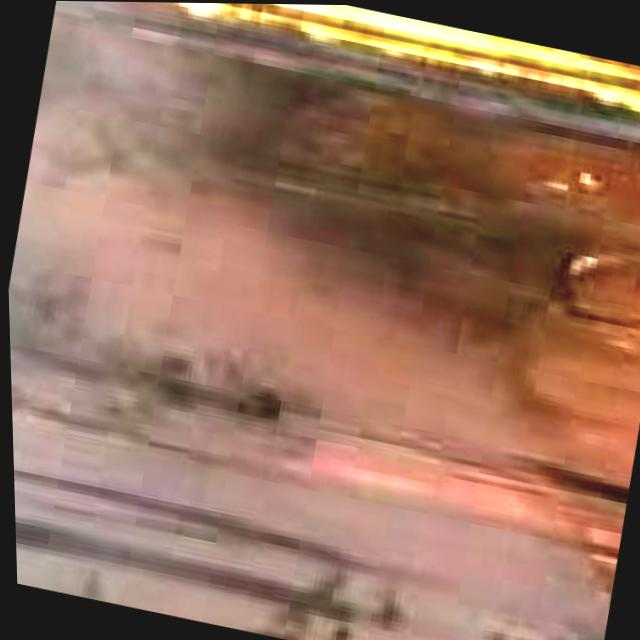fire: (59, 1, 640, 116), (563, 549, 616, 640)
